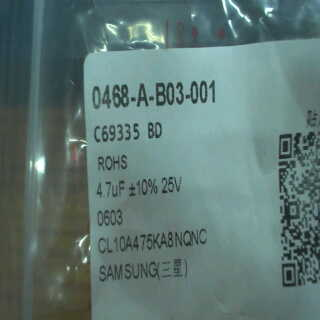4.7uF: (93, 176, 126, 205)
